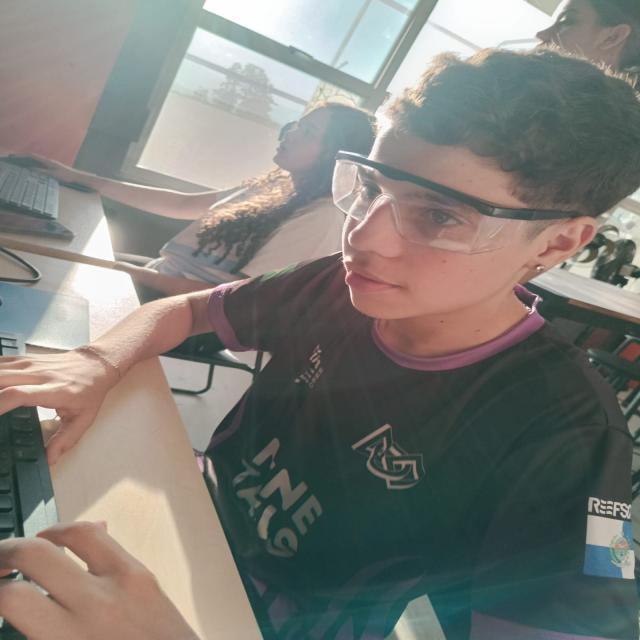oculos-epi: (331, 149, 579, 259)
sem_oculos: (272, 109, 356, 144)
